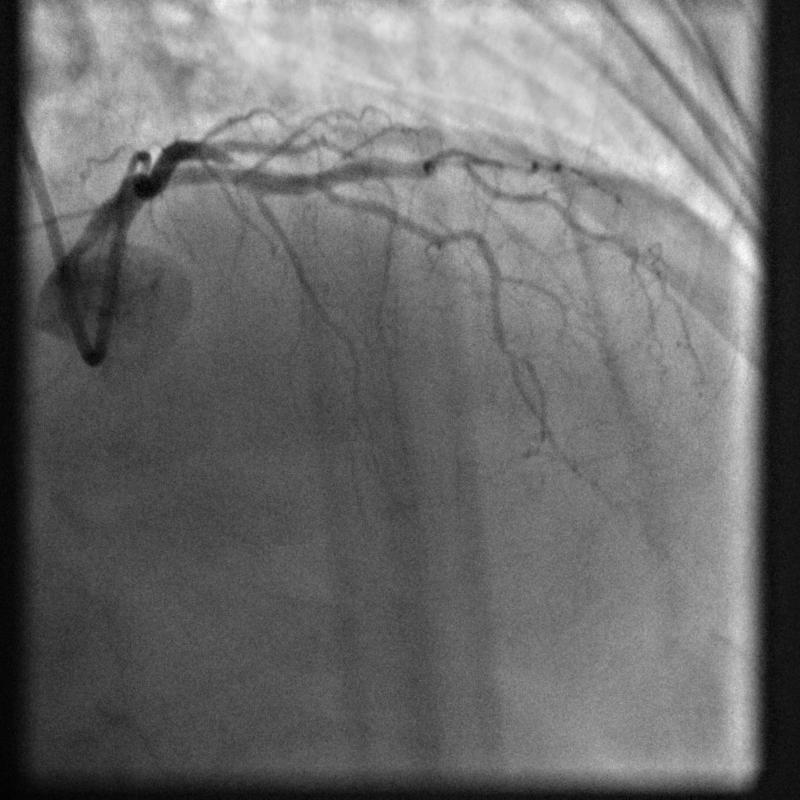Stenosis: (216, 148, 278, 186)
